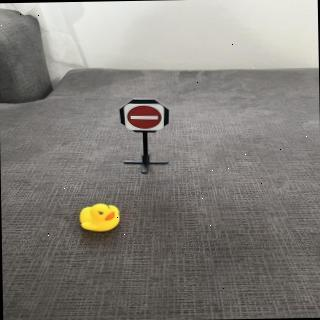duck_regular: (78, 203, 124, 234)
sign_noentry: (123, 102, 166, 133)
